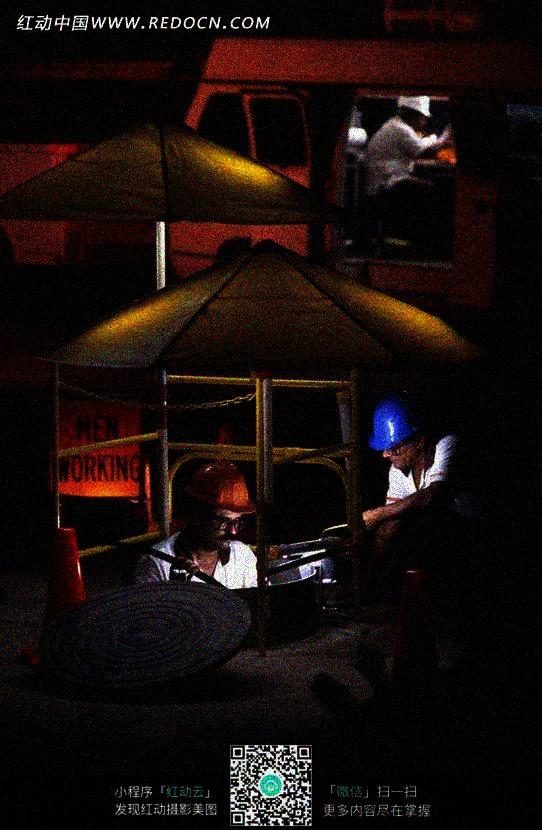helmet: (180, 460, 260, 554), (367, 394, 434, 470), (391, 88, 436, 132)
